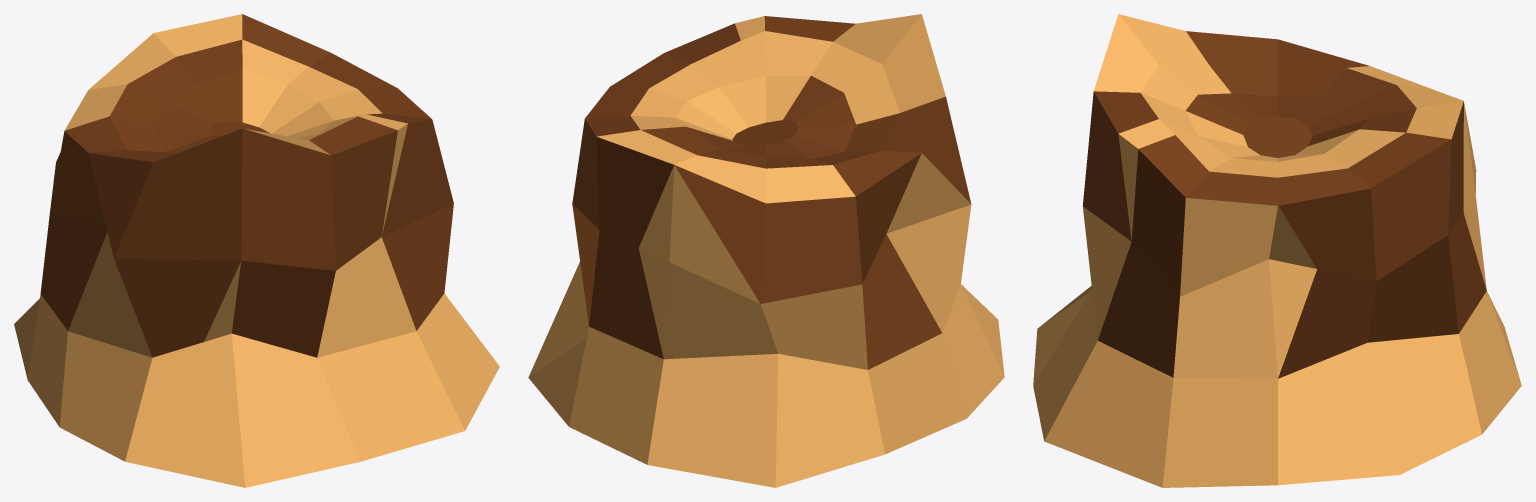
The model's file is IsometricTile_Between_TreeBase.fbx.
The picture shows the model from 3 angles, left to right: view 1: azimuth 30°, elevation 25°; view 2: azimuth 150°, elevation 25°; view 3: azimuth 270°, elevation 25°; orthographic projection. The views are drawn at different scales.
Parts seen in each view (by area): view 1: Cylinder.004; view 2: Cylinder.004; view 3: Cylinder.004.
Boxes of the visible parts, bbox=[...] form: Cylinder.004: bbox=[14, 14, 499, 487]; Cylinder.004: bbox=[528, 14, 1004, 487]; Cylinder.004: bbox=[1033, 14, 1521, 487].
Bounding box in the file's own units: 0.6994 × 0.7288 × 0.5483.
